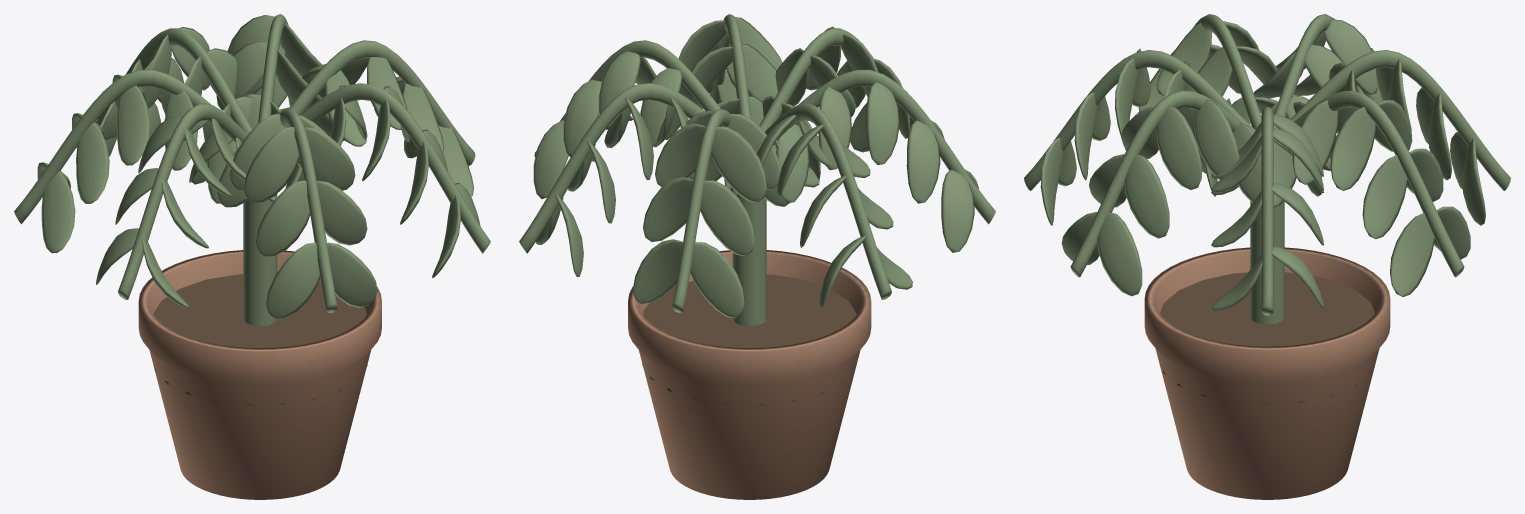
The model's file is fern.glb.
The picture shows the model from 3 angles, left to right: view 1: azimuth 30°, elevation 25°; view 2: azimuth 150°, elevation 25°; view 3: azimuth 270°, elevation 25°; orthographic projection.
Visible parts, largest first — view 1: planter-hollow-vessel, planter-contained-soil, fern-frond-1, fern-frond-4, fern-frond-3, fern-frond-0, fern-heart, fern-leaflet-2-3-1, fern-leaflet-2-5-1, fern-leaflet-2-4-1, fern-frond-2, fern-frond-5 (+32 smaller); view 2: planter-hollow-vessel, planter-contained-soil, fern-frond-6, fern-frond-4, fern-frond-3, fern-heart, fern-frond-5, fern-leaflet-5-3--1, fern-leaflet-5-4--1, fern-leaflet-5-5--1, fern-leaflet-5-5-1, fern-leaflet-5-4-1 (+34 smaller); view 3: planter-hollow-vessel, planter-contained-soil, fern-frond-5, fern-frond-6, fern-frond-1, fern-frond-2, fern-frond-0, fern-leaflet-1-3--1, fern-leaflet-1-5--1, fern-leaflet-1-4--1, fern-leaflet-6-3-1, fern-leaflet-6-4-1 (+38 smaller).
Boxes of the visible parts, x1,y1,x2,y2 form: planter-hollow-vessel: (138, 250, 381, 499); planter-contained-soil: (153, 274, 367, 405); fern-frond-1: (300, 83, 490, 253); fern-frond-4: (14, 69, 211, 224); fern-frond-3: (118, 103, 247, 299); fern-frond-0: (289, 40, 475, 165); fern-heart: (243, 194, 277, 326); fern-leaflet-2-3-1: (243, 127, 299, 202); fern-leaflet-2-5-1: (266, 242, 320, 318); fern-leaflet-2-4-1: (255, 180, 310, 256); fern-frond-2: (279, 108, 337, 312); fern-frond-5: (96, 28, 252, 133); planter-hollow-vessel: (628, 250, 871, 499); planter-contained-soil: (642, 274, 856, 405); fern-frond-6: (519, 83, 704, 253); fern-frond-4: (765, 103, 891, 299); fern-frond-3: (773, 69, 995, 224); fern-heart: (732, 193, 766, 326); fern-frond-5: (672, 108, 730, 312); fern-leaflet-5-3--1: (711, 126, 766, 202); fern-leaflet-5-4--1: (700, 180, 754, 256); fern-leaflet-5-5--1: (690, 242, 744, 318); fern-leaflet-5-5-1: (632, 239, 683, 303); fern-leaflet-5-4-1: (643, 177, 693, 241); planter-hollow-vessel: (1144, 247, 1390, 499); planter-contained-soil: (1160, 272, 1374, 405); fern-frond-5: (1291, 50, 1510, 190); fern-frond-6: (1294, 90, 1464, 277); fern-frond-1: (1070, 90, 1242, 277); fern-frond-2: (1024, 50, 1255, 190); fern-frond-0: (1261, 107, 1273, 315); fern-leaflet-1-3--1: (1156, 105, 1201, 190); fern-leaflet-1-5--1: (1097, 212, 1142, 296); fern-leaflet-1-4--1: (1124, 154, 1169, 238); fern-leaflet-6-3-1: (1330, 107, 1375, 190); fern-leaflet-6-4-1: (1362, 155, 1407, 239).
Size of the model in its own units: 0.6712 by 0.6298 by 0.688.
